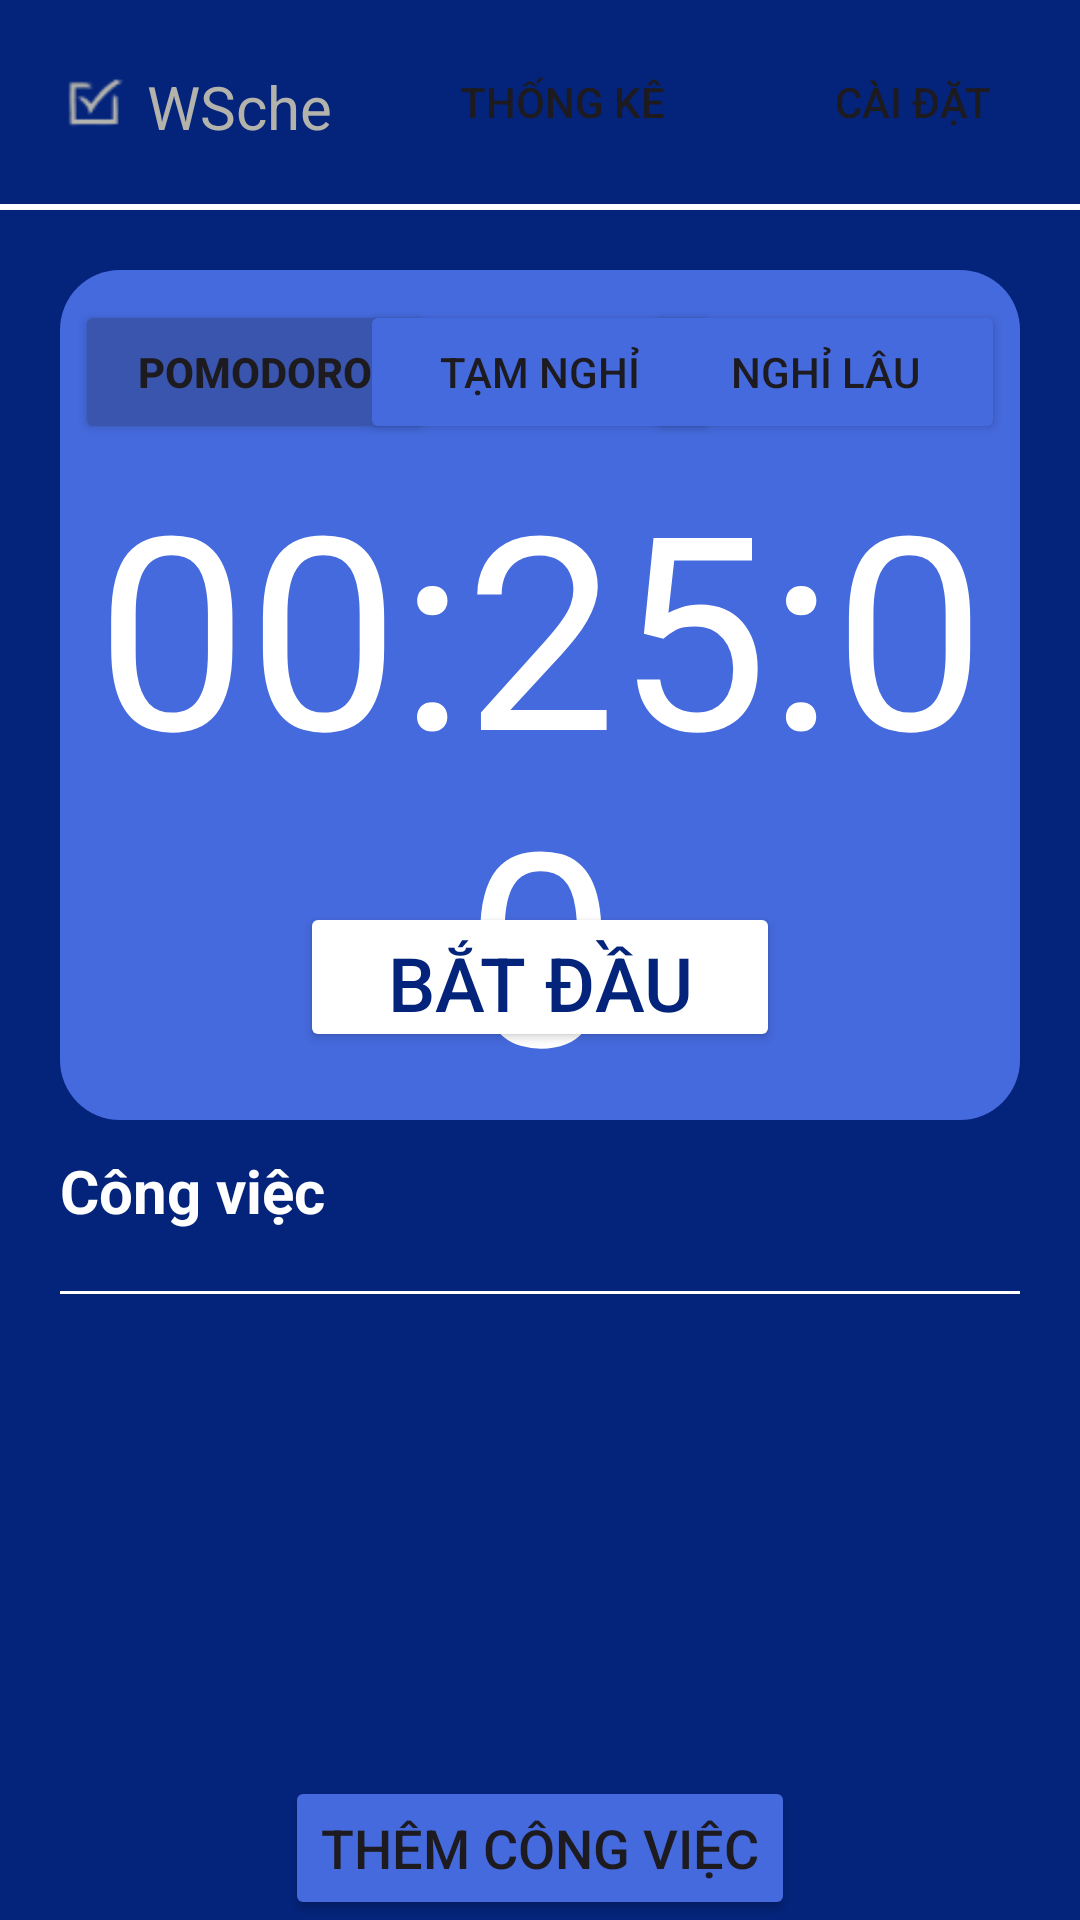

Icon click points for this 1080 x 1920 phone screenshot, format [x,y]:
tick: [95,102]
